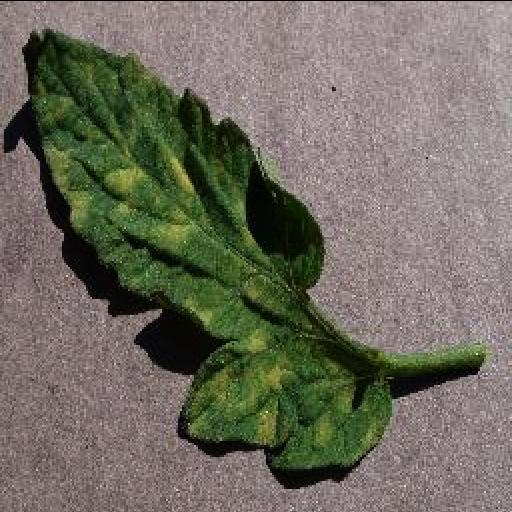disease_tomato: (26, 29, 392, 465)
